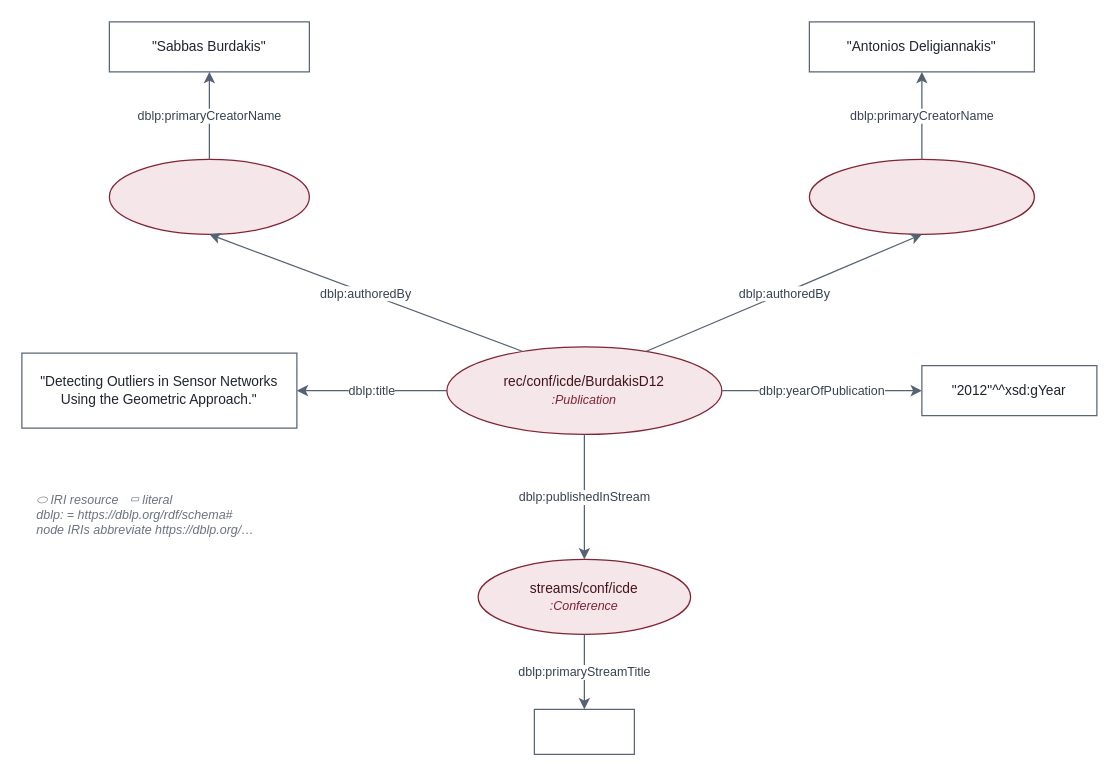
Some shapes in this 1119 by 776 pixel diagram are drawn without their labels. The shapes that lost their labels are listed below. From the top down, each one's centre as x and y in pixels, then its label:
(x=208, y=196): pid/116/5265 :Person
(x=921, y=196): pid/d/ADeligiannakis :Person
(x=583, y=731): "ICDE"
